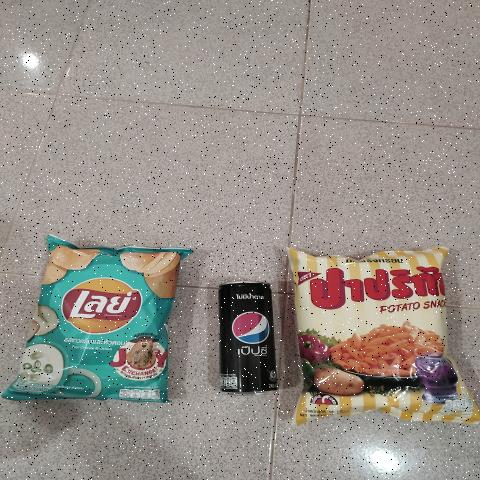lay_blue: (50, 247, 162, 399)
paprika: (304, 259, 448, 414)
pepsi_black: (224, 288, 276, 387)
